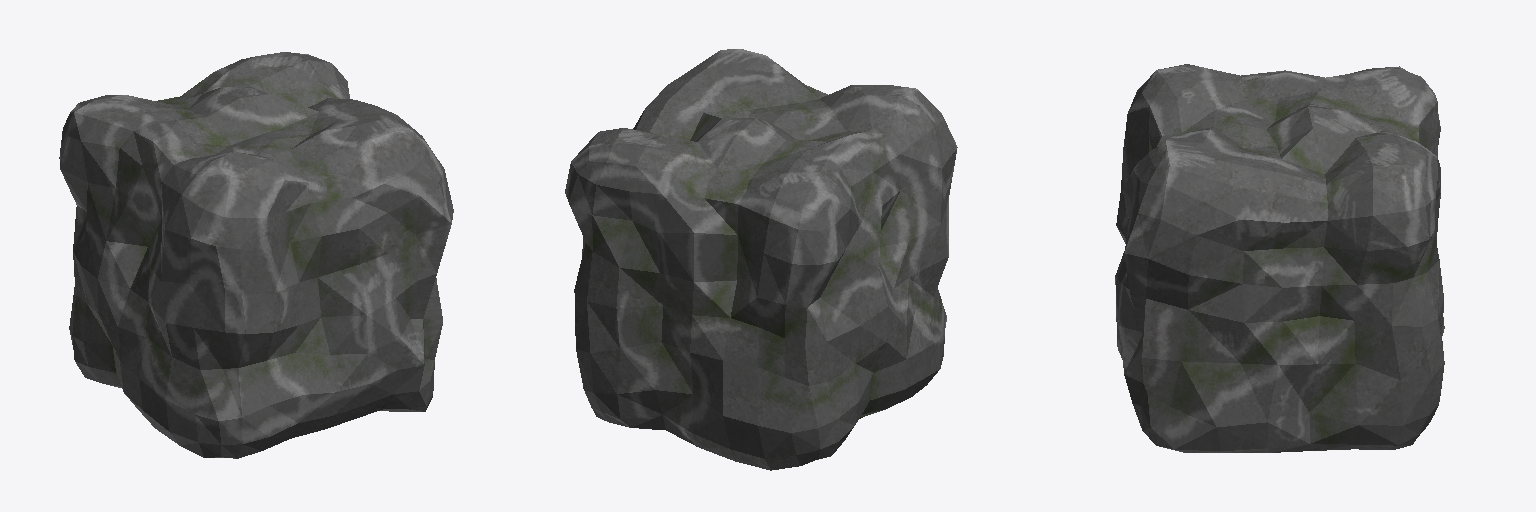
The picture shows the model from 3 angles: view 1: azimuth 30°, elevation 25°; view 2: azimuth 150°, elevation 25°; view 3: azimuth 270°, elevation 25°; orthographic projection.
Size of the model in its own units: 24.86 by 25.38 by 25.46.
Materials: 1 (1 with a texture image).